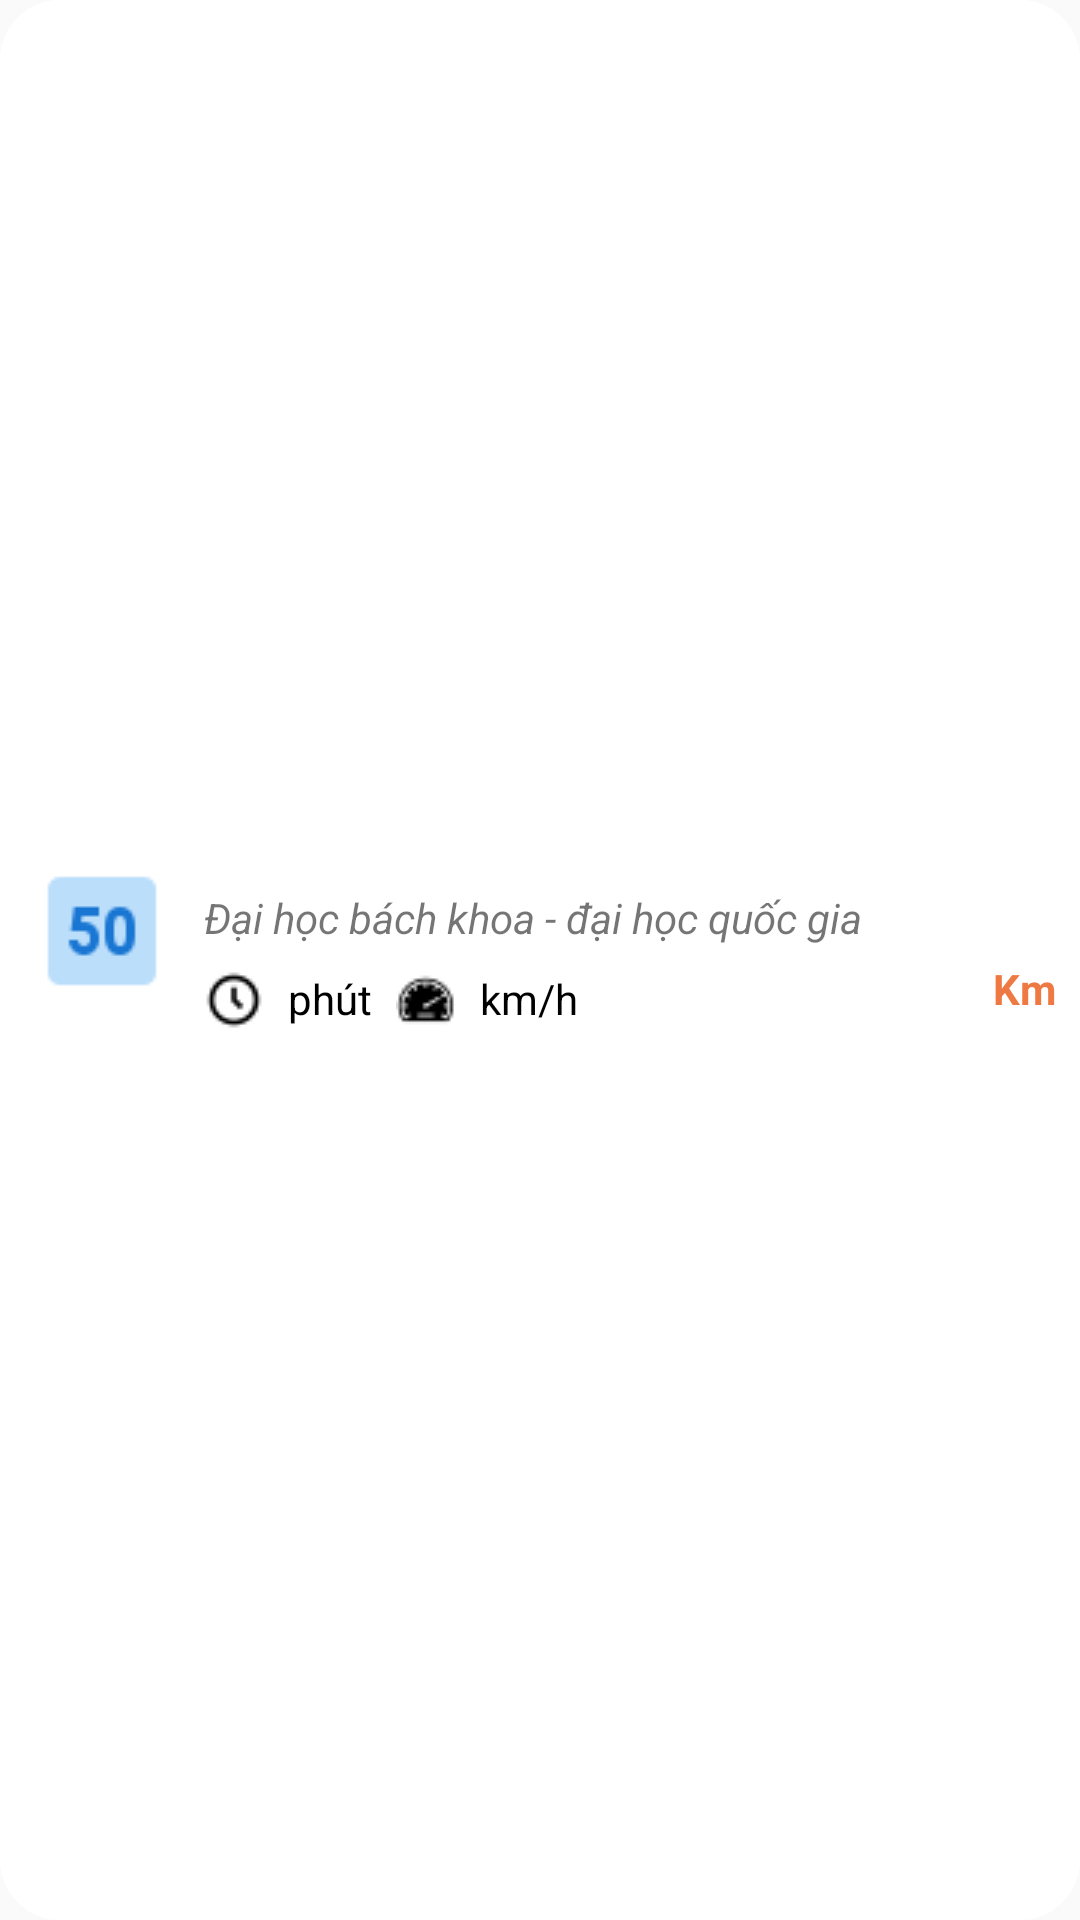

Named icons in this screenshot (1080×1920) and their centers, (x,y):
clock: (234,999)
speed: (425,999)
